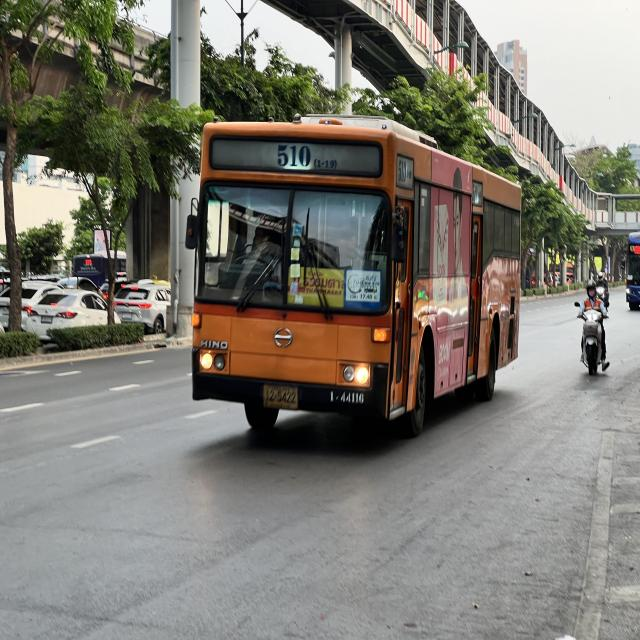BMTA-bus: (180, 99, 525, 451)
Bus-Line-Number: (273, 140, 342, 172)
Destination-Sign-Normal-Expressway: (287, 265, 346, 310)
